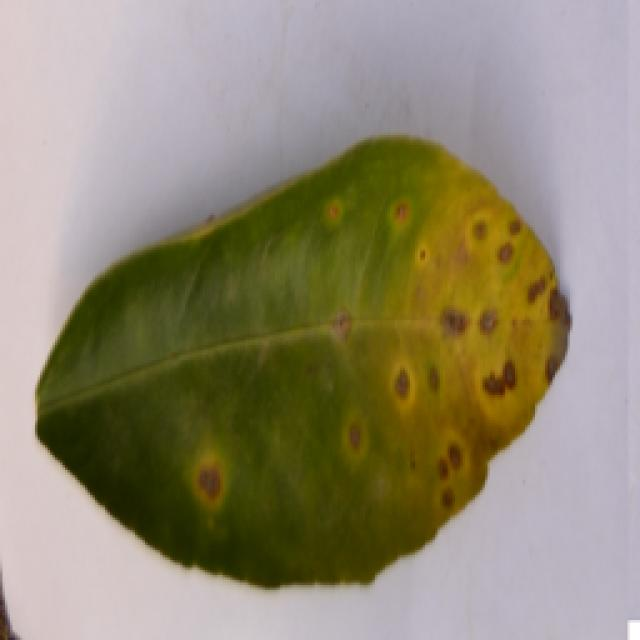canker: (117, 180, 569, 566)
